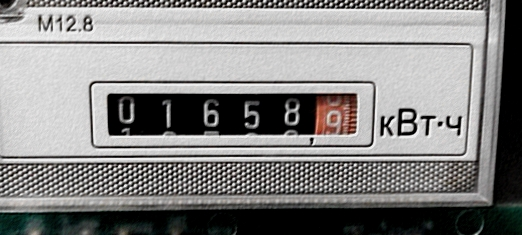0: (116, 94, 137, 124)
1: (159, 96, 177, 129)
5: (241, 98, 263, 129)
6: (201, 95, 222, 128)
8: (282, 94, 303, 126)
9: (323, 108, 344, 136)
screen: (80, 70, 381, 155)
